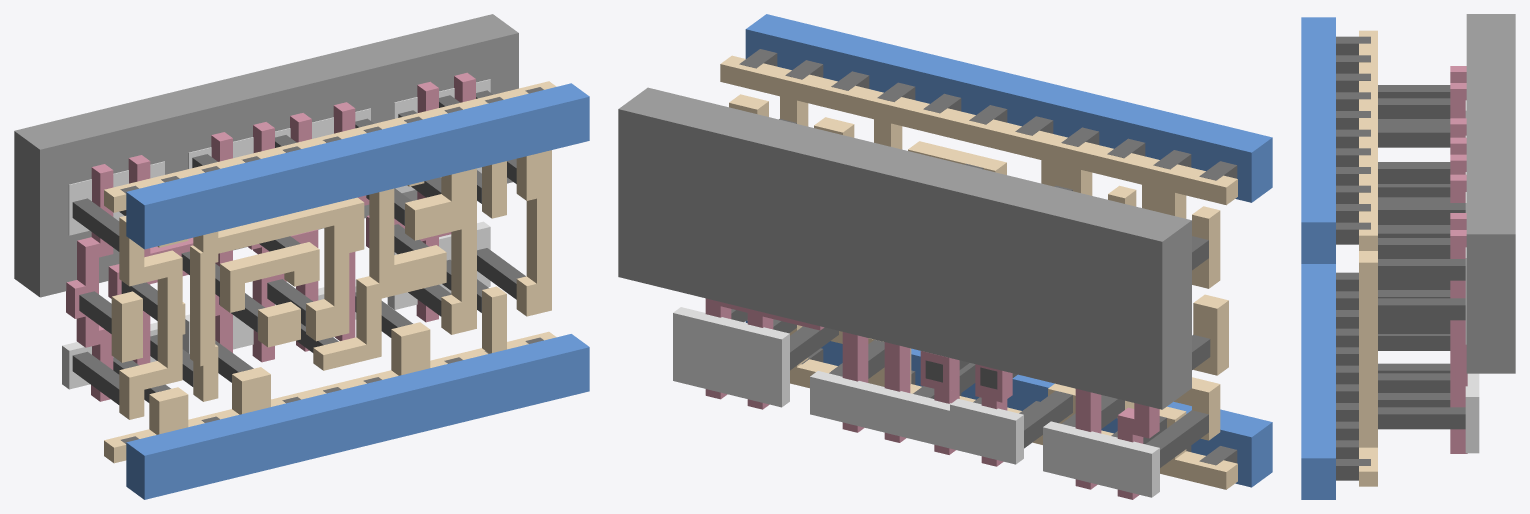
Rendered from sky130_fd_sc_hd__lpflow_inputisolatch_1.gds.gltf.
The picture shows the model from 3 angles, left to right: view 1: azimuth 30°, elevation 25°; view 2: azimuth 150°, elevation 25°; view 3: azimuth 270°, elevation 25°; orthographic projection. The views are drawn at different scales.
Parts seen in each view (by area): view 1: sky130_fd_sc_hd__lpflow_inputisolatch_1_li1, sky130_fd_sc_hd__lpflow_inputisolatch_1_met1, sky130_fd_sc_hd__lpflow_inputisolatch_1_nwell, sky130_fd_sc_hd__lpflow_inputisolatch_1_licon, sky130_fd_sc_hd__lpflow_inputisolatch_1_poly, sky130_fd_sc_hd__lpflow_inputisolatch_1_diff, sky130_fd_sc_hd__lpflow_inputisolatch_1_mcon; view 2: sky130_fd_sc_hd__lpflow_inputisolatch_1_nwell, sky130_fd_sc_hd__lpflow_inputisolatch_1_li1, sky130_fd_sc_hd__lpflow_inputisolatch_1_met1, sky130_fd_sc_hd__lpflow_inputisolatch_1_diff, sky130_fd_sc_hd__lpflow_inputisolatch_1_poly, sky130_fd_sc_hd__lpflow_inputisolatch_1_licon, sky130_fd_sc_hd__lpflow_inputisolatch_1_mcon; view 3: sky130_fd_sc_hd__lpflow_inputisolatch_1_licon, sky130_fd_sc_hd__lpflow_inputisolatch_1_nwell, sky130_fd_sc_hd__lpflow_inputisolatch_1_met1, sky130_fd_sc_hd__lpflow_inputisolatch_1_mcon, sky130_fd_sc_hd__lpflow_inputisolatch_1_li1, sky130_fd_sc_hd__lpflow_inputisolatch_1_poly, sky130_fd_sc_hd__lpflow_inputisolatch_1_diff.
Boxes of the visible parts, x1=… form: sky130_fd_sc_hd__lpflow_inputisolatch_1_li1: x1=104, y1=81, x2=556, y2=463; sky130_fd_sc_hd__lpflow_inputisolatch_1_met1: x1=126, y1=83, x2=589, y2=499; sky130_fd_sc_hd__lpflow_inputisolatch_1_nwell: x1=14, y1=14, x2=518, y2=297; sky130_fd_sc_hd__lpflow_inputisolatch_1_licon: x1=72, y1=90, x2=525, y2=404; sky130_fd_sc_hd__lpflow_inputisolatch_1_poly: x1=66, y1=72, x2=475, y2=401; sky130_fd_sc_hd__lpflow_inputisolatch_1_diff: x1=62, y1=79, x2=490, y2=389; sky130_fd_sc_hd__lpflow_inputisolatch_1_mcon: x1=120, y1=87, x2=543, y2=443; sky130_fd_sc_hd__lpflow_inputisolatch_1_nwell: x1=618, y1=87, x2=1191, y2=409; sky130_fd_sc_hd__lpflow_inputisolatch_1_li1: x1=720, y1=55, x2=1237, y2=489; sky130_fd_sc_hd__lpflow_inputisolatch_1_met1: x1=745, y1=14, x2=1272, y2=487; sky130_fd_sc_hd__lpflow_inputisolatch_1_diff: x1=673, y1=307, x2=1159, y2=497; sky130_fd_sc_hd__lpflow_inputisolatch_1_poly: x1=705, y1=298, x2=1159, y2=499; sky130_fd_sc_hd__lpflow_inputisolatch_1_licon: x1=731, y1=119, x2=1210, y2=467; sky130_fd_sc_hd__lpflow_inputisolatch_1_mcon: x1=739, y1=49, x2=1237, y2=465; sky130_fd_sc_hd__lpflow_inputisolatch_1_licon: x1=1378, y1=85, x2=1465, y2=429; sky130_fd_sc_hd__lpflow_inputisolatch_1_nwell: x1=1466, y1=14, x2=1515, y2=373; sky130_fd_sc_hd__lpflow_inputisolatch_1_met1: x1=1301, y1=17, x2=1335, y2=499; sky130_fd_sc_hd__lpflow_inputisolatch_1_mcon: x1=1336, y1=36, x2=1370, y2=480; sky130_fd_sc_hd__lpflow_inputisolatch_1_li1: x1=1359, y1=30, x2=1377, y2=486; sky130_fd_sc_hd__lpflow_inputisolatch_1_poly: x1=1450, y1=66, x2=1467, y2=453; sky130_fd_sc_hd__lpflow_inputisolatch_1_diff: x1=1465, y1=100, x2=1479, y2=453.
Size of the model in its own units: 5.44 by 3.2 by 2.24.
